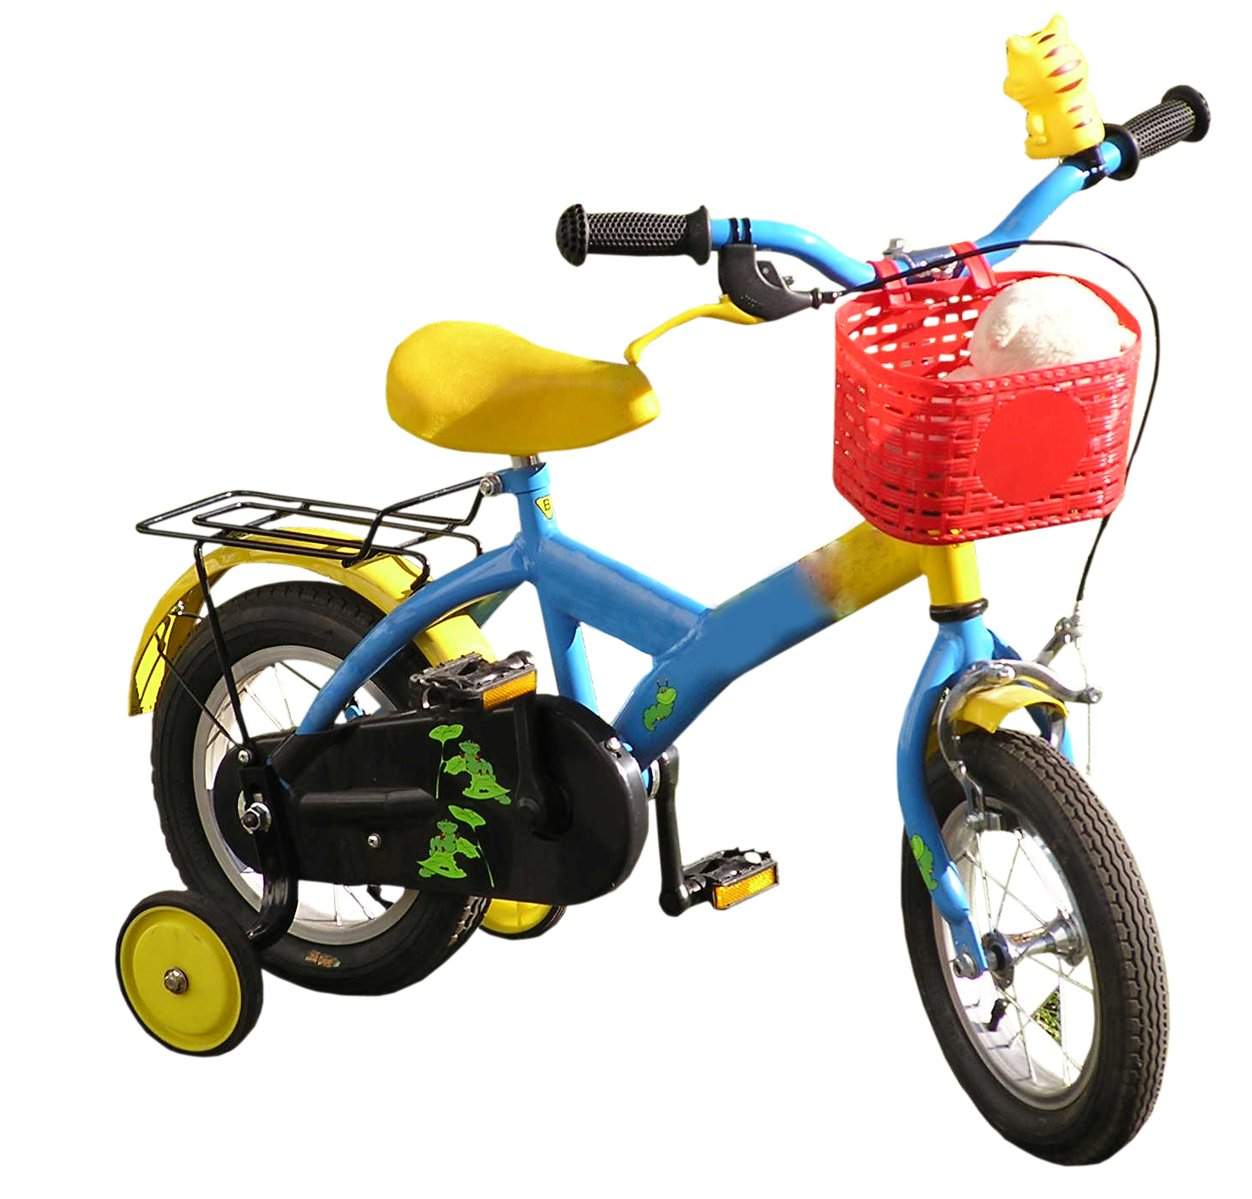Bicycle: (17, 13, 1252, 1196)
